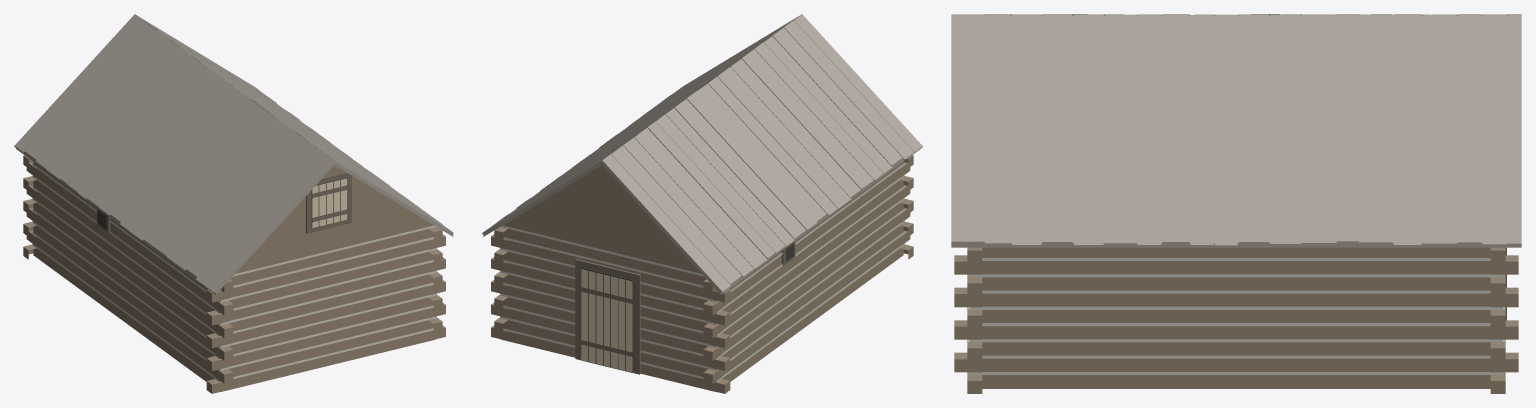
Rendered from recon_1835_blk_randolph_market_a1_07__inferred_1835.glb.
The picture shows the model from 3 angles, left to right: view 1: azimuth 30°, elevation 25°; view 2: azimuth 150°, elevation 25°; view 3: azimuth 270°, elevation 25°; orthographic projection. The views are drawn at different scales.
Parts seen in each view (by area): view 1: recon_1835_blk_randolph_market_a1_07__inferred_1835; view 2: recon_1835_blk_randolph_market_a1_07__inferred_1835; view 3: recon_1835_blk_randolph_market_a1_07__inferred_1835.
Part boxes in pixels (x1,y1,x2,y2): recon_1835_blk_randolph_market_a1_07__inferred_1835: [14, 14, 453, 393]; recon_1835_blk_randolph_market_a1_07__inferred_1835: [482, 14, 922, 393]; recon_1835_blk_randolph_market_a1_07__inferred_1835: [951, 14, 1521, 393].
Bounding box in the file's own units: 6.28 × 5.22 × 8.99.
